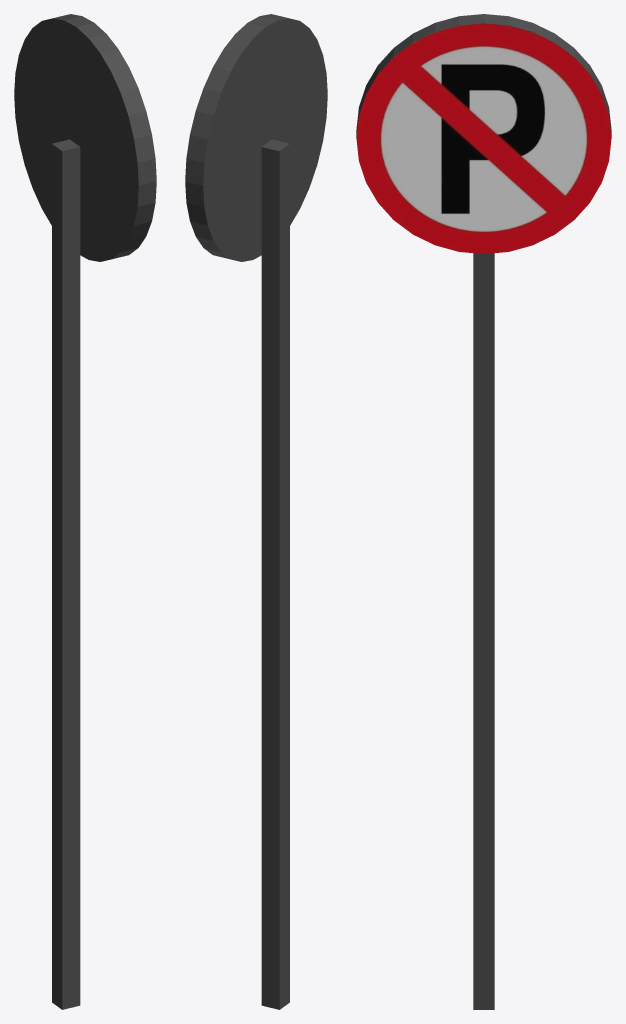
File: park_yapilmaz_levha.dae
The picture shows the model from 3 angles, left to right: view 1: azimuth 30°, elevation 25°; view 2: azimuth 150°, elevation 25°; view 3: azimuth 270°, elevation 25°; orthographic projection. The views are drawn at different scales.
Visible parts, largest first — view 1: Cube.004, Cube.003; view 2: Cube.004, Cube.003; view 3: Cube.003, Cube.004.
Boxes of the visible parts, left/top/right/bottom form: Cube.004: left=52, top=139, right=80, bottom=1009; Cube.003: left=14, top=14, right=156, bottom=261; Cube.004: left=261, top=139, right=289, bottom=1009; Cube.003: left=185, top=14, right=327, bottom=261; Cube.003: left=356, top=14, right=611, bottom=253; Cube.004: left=473, top=253, right=494, bottom=1009.
Bounding box in the file's own units: 0.1039 × 0.6 × 2.59.
3 materials, 1 textured.
